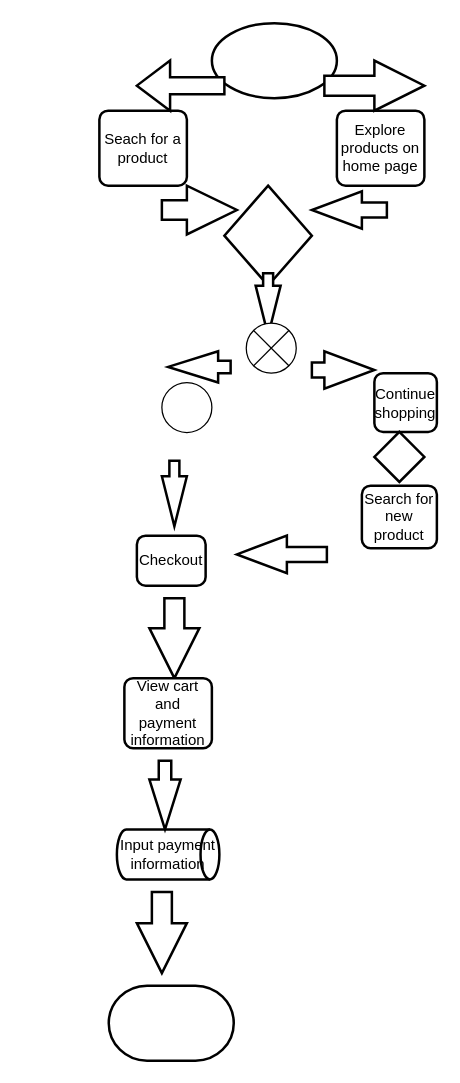
This 460x1083 diagram has some shape labels left out. The shapes that lost their labels are listed below. From the top down, each one's box as (x1, y1, x2, y2) in pixels, then its label:
(210, 21, 338, 99): User enters the site
(222, 184, 312, 286): Decide to continue shopping or not.
(161, 381, 212, 432): Add to cart, receive an added to cart confirmation.
(107, 984, 234, 1061): Confirmation screen and send email
